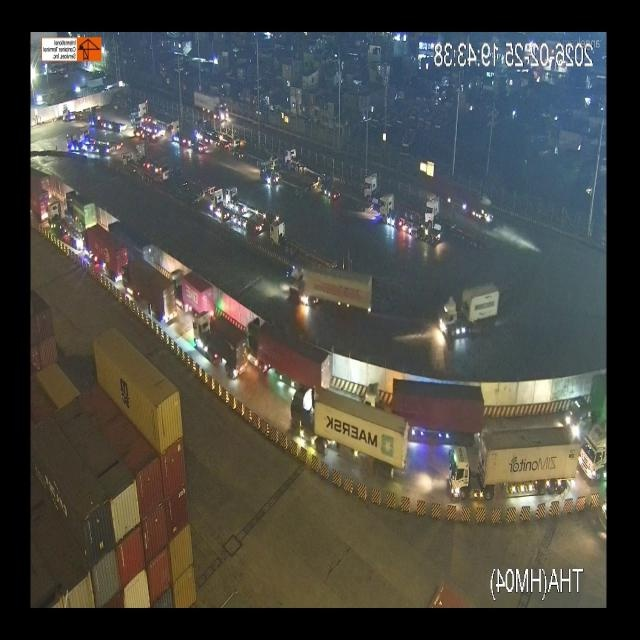truck: (293, 386, 413, 480), (448, 428, 582, 508), (363, 366, 495, 428), (244, 316, 332, 382), (194, 308, 254, 375), (281, 268, 375, 310), (117, 257, 175, 325), (428, 289, 496, 341), (266, 218, 342, 261), (170, 266, 214, 314), (375, 189, 423, 231), (426, 194, 478, 231), (78, 227, 118, 271), (63, 185, 95, 228), (43, 204, 77, 238), (362, 165, 390, 203), (29, 160, 53, 198)
